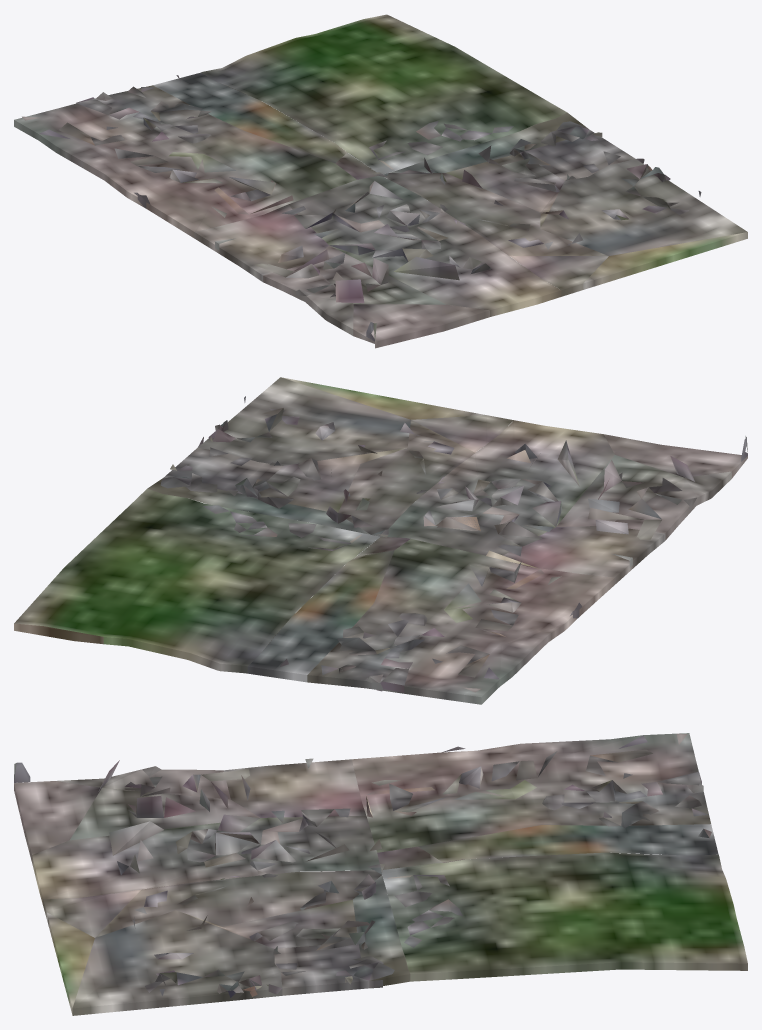
The picture shows the model from 3 angles, top to bottom: view 1: azimuth 30°, elevation 25°; view 2: azimuth 150°, elevation 25°; view 3: azimuth 270°, elevation 25°; orthographic projection. The views are drawn at different scales.
Parts seen in each view (by area): view 1: Mesh_0; view 2: Mesh_0; view 3: Mesh_0.
Part boxes in pixels (<box>): Mesh_0: <box>14,14,747,348</box>; Mesh_0: <box>14,377,747,704</box>; Mesh_0: <box>14,733,747,1015</box>.
Size of the model in its own units: 1064 by 152 by 1317.
1 material, 1 textured.
